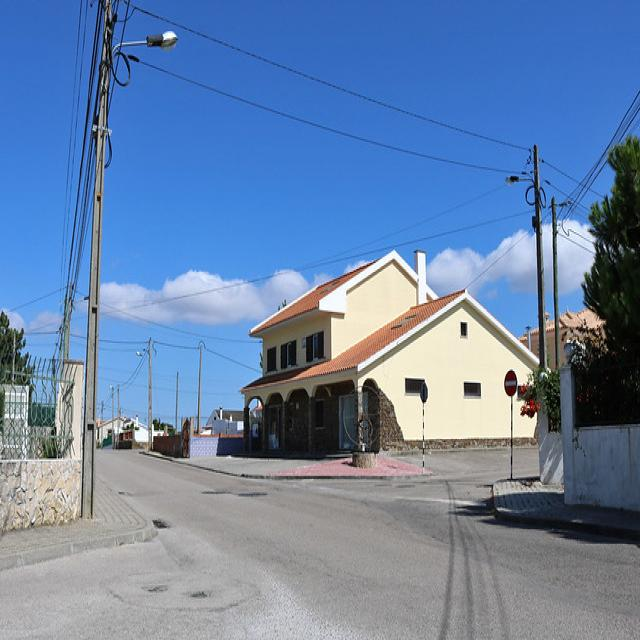Normal_building: (238, 242, 546, 457)
